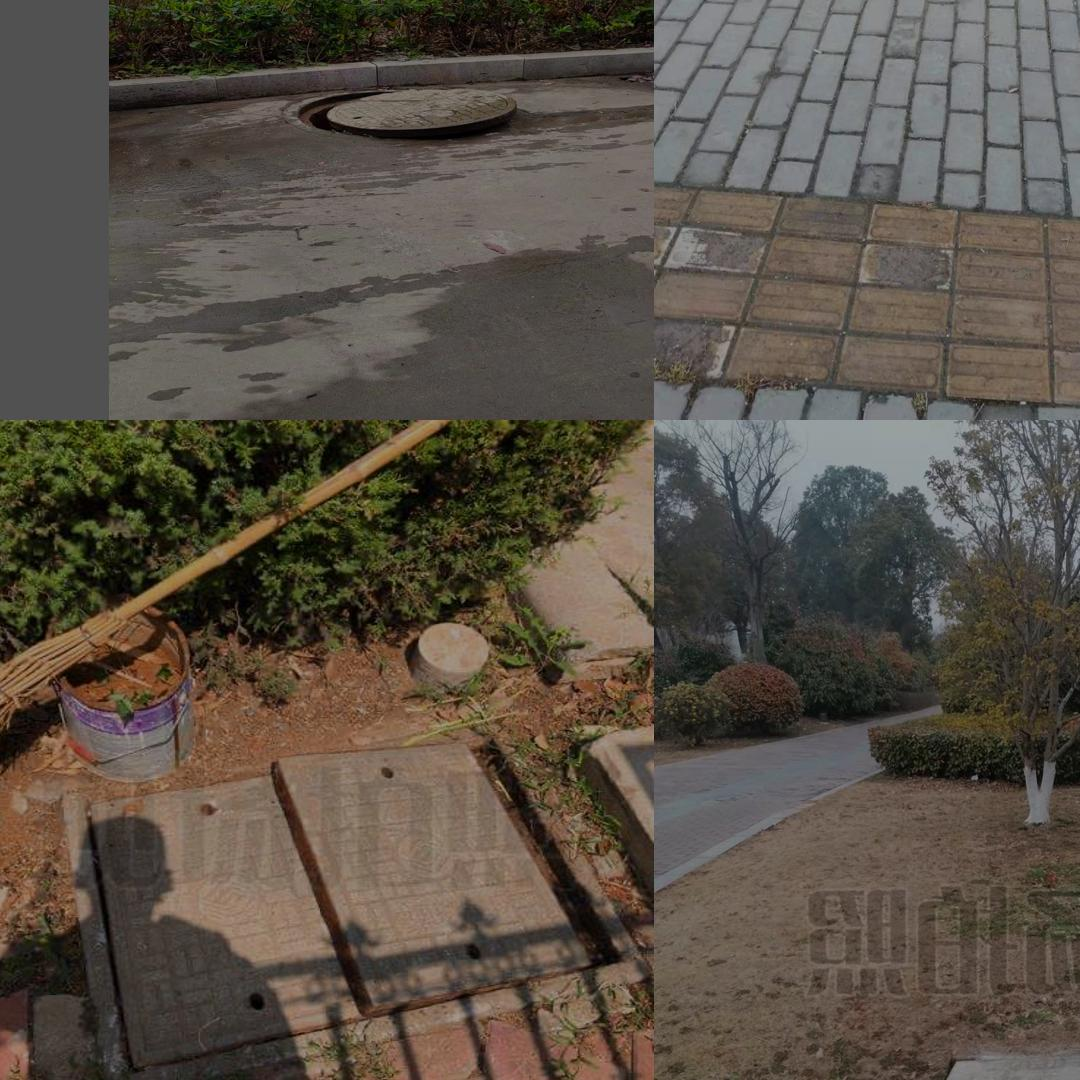uncovered: (62, 732, 646, 1080), (280, 85, 520, 142), (898, 1049, 1080, 1080)
